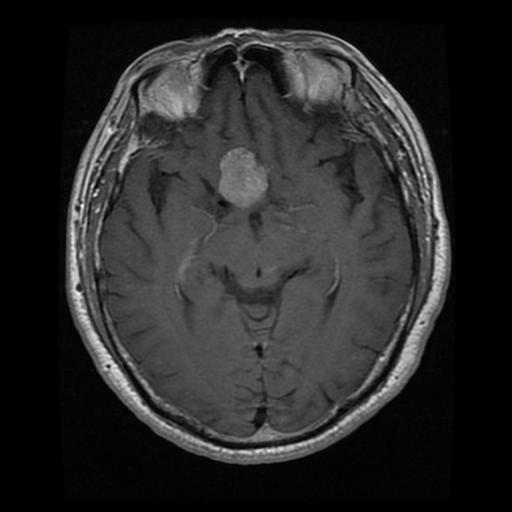Tumour-Pituitary: (209, 142, 285, 219)
